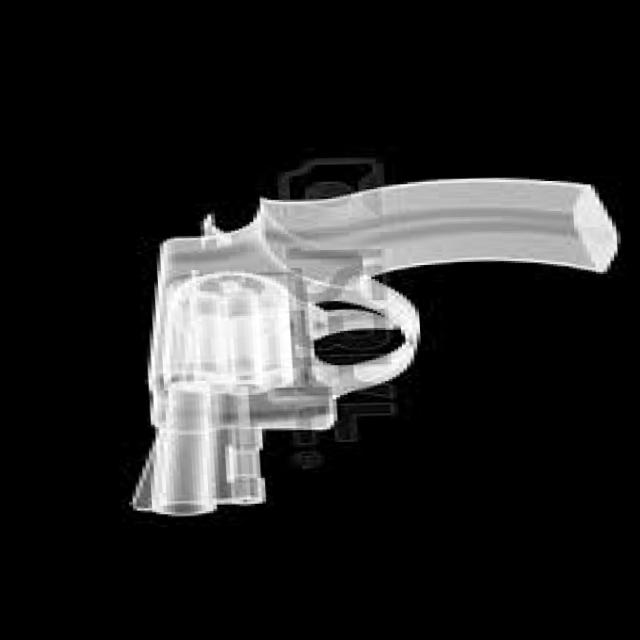handgun: (92, 164, 626, 515)
